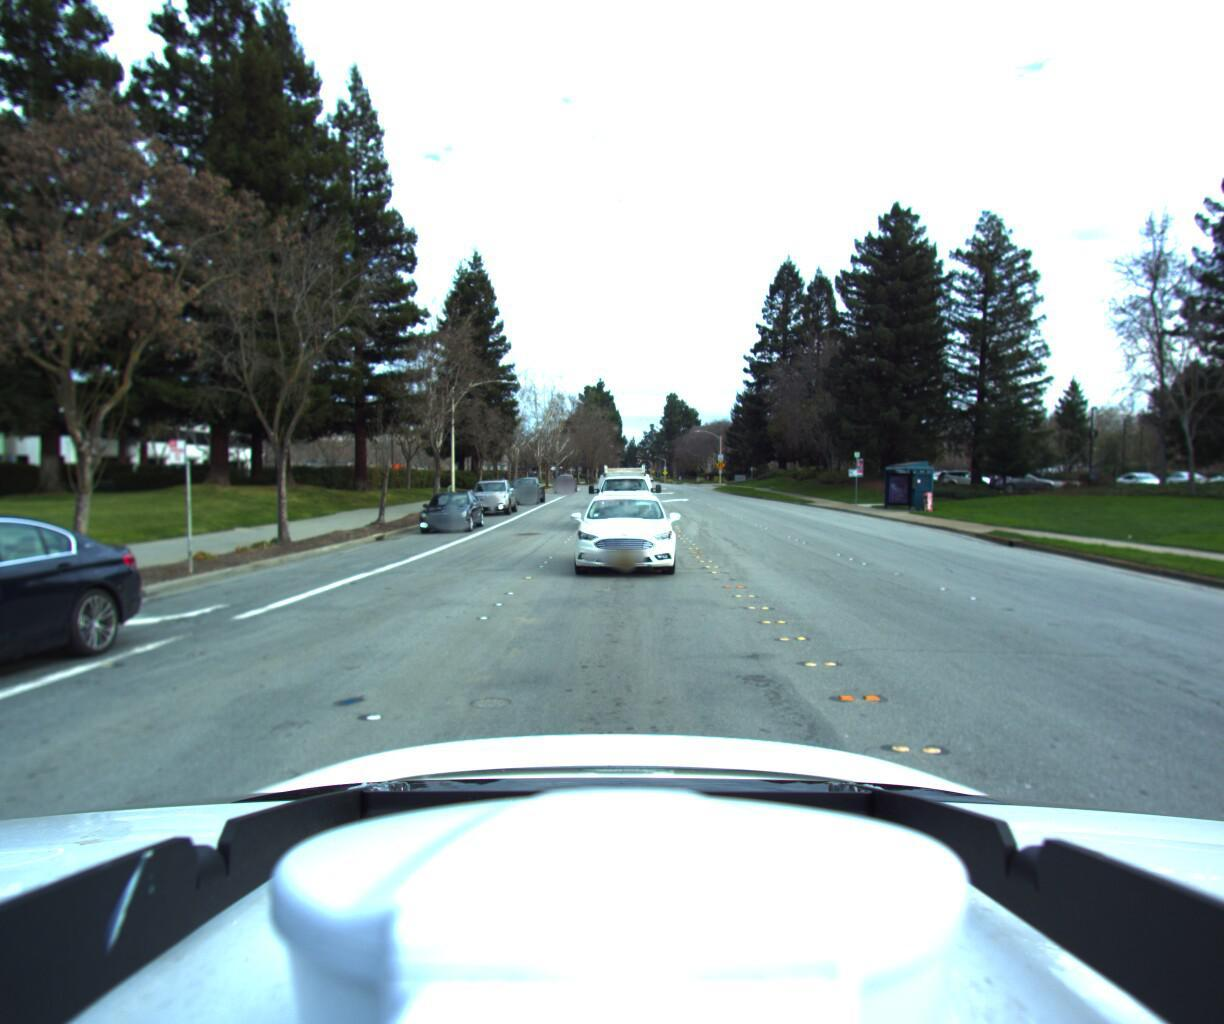car: (0, 498, 155, 807), (570, 487, 680, 579), (585, 454, 661, 533), (415, 488, 482, 533), (466, 477, 517, 514), (504, 474, 544, 503), (551, 477, 576, 497)
